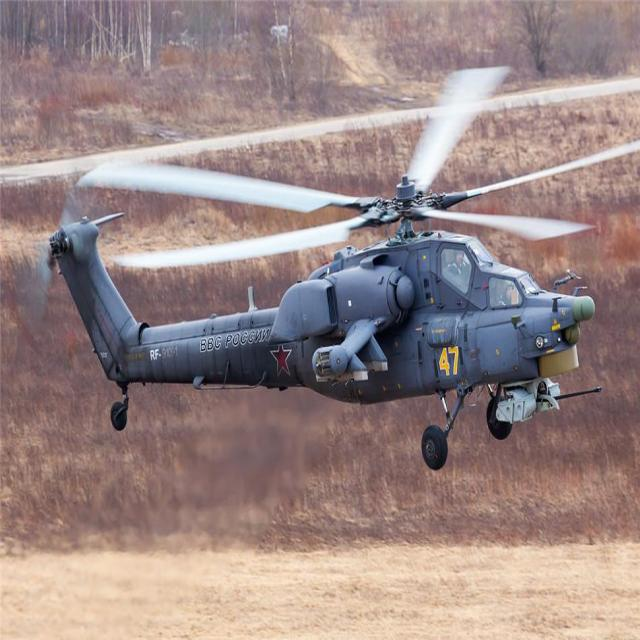MIL_HELO: (23, 59, 611, 459)
